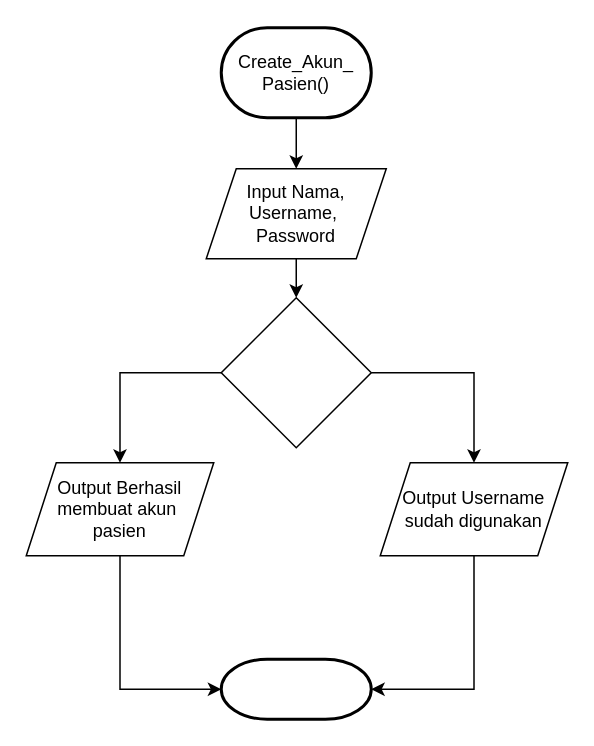
The diagram is 594 pixels wide and 746 high, and some of its shapes have lost their labels. Each missing label, with the centre of its shape:
Apakah Username ada yang sama?: the point at 295,372
END: the point at 295,688
